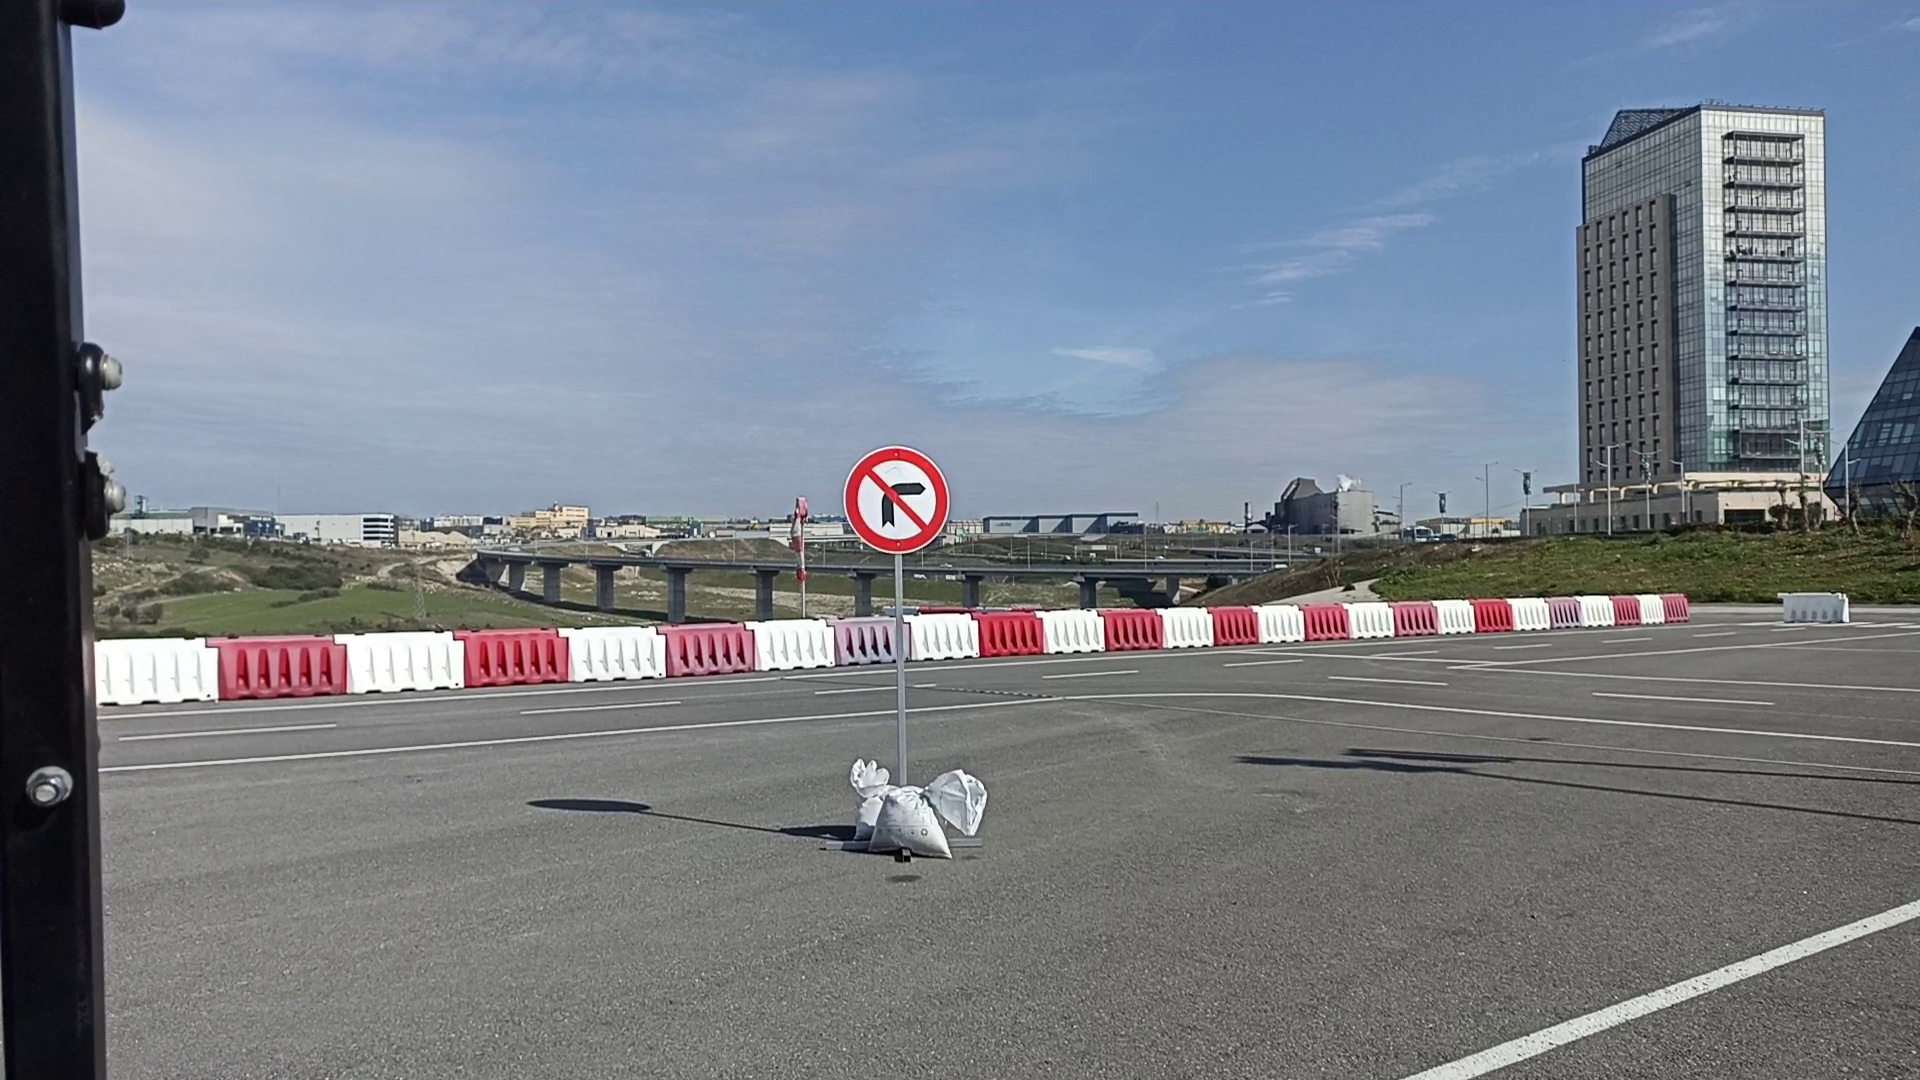noleftturn: (839, 443, 952, 556)
